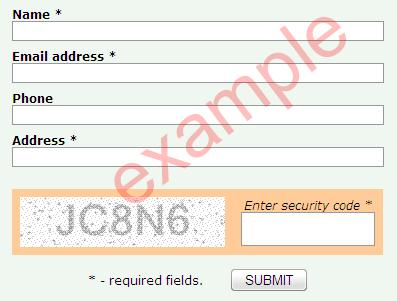button: (224, 266, 313, 294)
